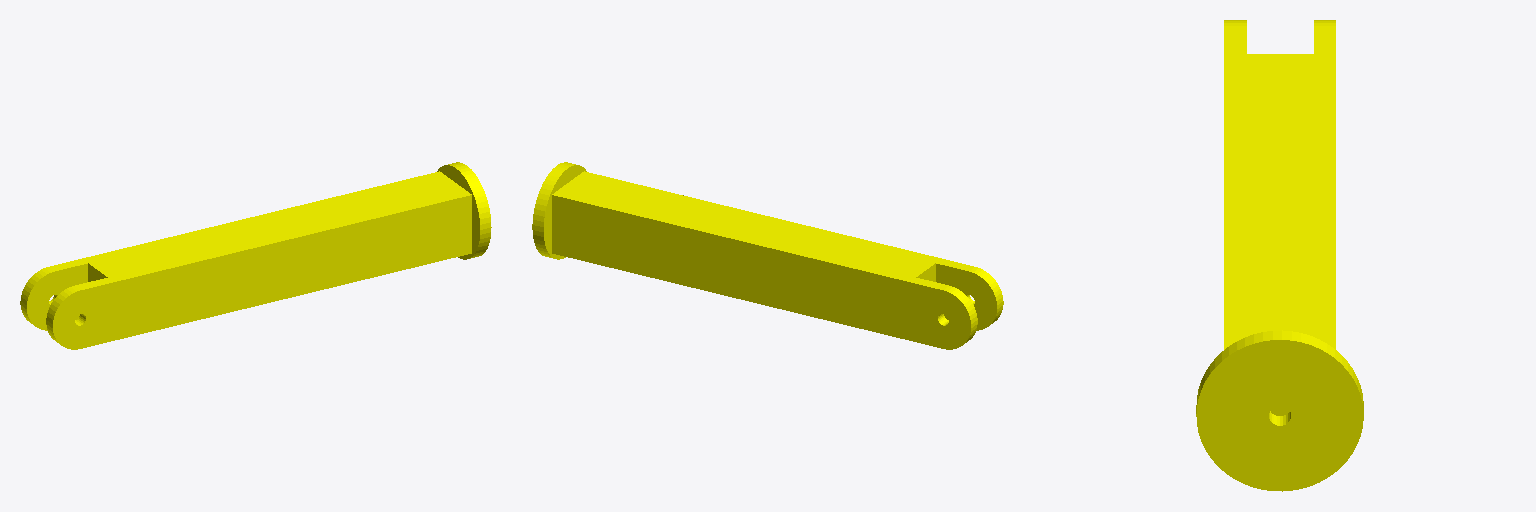
robot.urdf — roboticarm:
<?xml version="1.0" ?>
<robot name="roboticarm">
    <!-- Define the base link -->
    <link name="base_link">
        <inertial>
            <mass value="4"/>
            <origin xyz="0 0 0.309" rpy="0 0 0"/>
            <inertia ixx="36.11" ixy="0.0" ixz="0.0" iyy="36.11" iyz="0.0" izz="47.69"/>
        </inertial>
        <visual>
            <geometry>
                <mesh filename="modelos/manipuladores/ejemplo_brazo/roboticarm/meshes/base_mesh_scaled.stl" /> 
            </geometry>
            <material name="pink">
                <color rgba="255 0 132 1" />
            </material>
        </visual>
        <collision>
            <geometry>
                <mesh filename="modelos/manipuladores/ejemplo_brazo/roboticarm/meshes/base_mesh_scaled.stl" />
            </geometry>
        </collision>
    </link>

    <!-- Define the first arm link -->
    <link name="arm_link1">
        <inertial>
            <mass value="1"/>
            <origin xyz="0.47 0 0.695" rpy="0 0 0"/>
            <inertia ixx="43.93" ixy="-0.000047" ixz="-30.7" iyy="67.71" iyz="-0.000068" izz="25.76"/>
        </inertial>
        <visual>
            <geometry>
                <mesh filename="modelos/manipuladores/ejemplo_brazo/roboticarm/meshes/primerbrazo_mesh_scaled.stl" />
            </geometry>
            <material name="red">
                <color rgba="248 0 0 1" />
            </material>
        </visual>
        <collision>
            <geometry>
                <mesh filename="modelos/manipuladores/ejemplo_brazo/roboticarm/meshes/primerbrazo_mesh_scaled.stl" />
            </geometry>
        </collision>
    </link>

    <!-- Define the second arm link -->
    <link name="arm_link2">
        <inertial>
            <mass value="9"/>
            <origin xyz="0.94 0.125 0" rpy="1.5708 0 0"/>
            <inertia ixx="0.9649" ixy="0.0" ixz="0.0" iyy="24.17" iyz="0.0" izz="24.19"/>
        </inertial>
        <visual>
            <geometry>
                <mesh filename="modelos/manipuladores/ejemplo_brazo/roboticarm/meshes/segundobrazo_mesh_scaled.stl" />
            </geometry>
            <material name="yellow">
                <color rgba="248 248 0 1" />
            </material>
        </visual>
        <collision>
            <geometry>
                <mesh filename="modelos/manipuladores/ejemplo_brazo/roboticarm/meshes/segundobrazo_mesh_scaled.stl" />
            </geometry>
        </collision>
    </link>

    <!-- Define the gripper link -->
    <link name="gripper_link">
        <inertial>
            <mass value="0.04"/>
            <origin xyz="0.013 0.125 0.125" rpy="0 1.5708 0"/>
            <inertia ixx="0.0519" ixy="0.0" ixz="0.0" iyy="0.03277" iyz="0.0" izz="0.04381"/>
        </inertial>
        <visual>
            <geometry>
                <mesh filename="modelos/manipuladores/ejemplo_brazo/roboticarm/meshes/gripper_mesh_scaled.stl" />
            </geometry>
            <material name="blue">
                <color rgba="0 248 248 0.7" />
            </material>
        </visual>
        <collision>
            <geometry>
                <mesh filename="modelos/manipuladores/ejemplo_brazo/roboticarm/meshes/gripper_mesh_scaled.stl" />
            </geometry>
        </collision>
    </link>

    <!-- Define the joints -->
    <joint name="base_to_arm1" type="revolute">
        <origin xyz="0 0 0.625" rpy="0 0 0" />
        <parent link="base_link" />
        <child link="arm_link1" />
        <axis xyz="0 0 1" />
        <limit lower="-3.1416" upper="3.1416"/> 
    </joint>

    <joint name="arm1_to_arm2" type="revolute">
        <origin xyz="1.294 0 1.84" rpy="1.5708 0 0" />
        <parent link="arm_link1" />
        <child link="arm_link2" />
        <axis xyz="0 0 1" />
        <limit lower="-1.5708" upper="1.5708"/>
    </joint>

    <joint name="arm2_to_gripper" type="revolute">
        <origin xyz="1.85 0 0" rpy="0 1.5708 0" />
        <parent link="arm_link2" />
        <child link="gripper_link" />
        <axis xyz="0 0 1" />
        <limit lower="-3.1416" upper="3.1416"/>
    </joint>

</robot>

--- Render facts (derived) ---
3 views of the same robot in one strip: view 1: azimuth 30°, elevation 25°; view 2: azimuth 150°, elevation 25°; view 3: azimuth 270°, elevation 25° (orthographic).
Robot: roboticarm — 4 links, 3 joints (3 revolute); root link base_link; default pose: every joint at zero.
Visible links, largest first — view 1: arm_link2; view 2: arm_link2; view 3: arm_link2.
Link boxes in pixels (<box>): arm_link2: <box>20,162,491,349</box>; arm_link2: <box>532,162,1003,349</box>; arm_link2: <box>1196,20,1363,491</box>.
Bounding box of the posed robot: 1.92 × 0.3747 × 0.3748 m (x, y, z).
1 mesh visuals loaded from 4 distinct referenced files (1 binary STL); not drawn: 3 (reference not matched to a file when rendering).